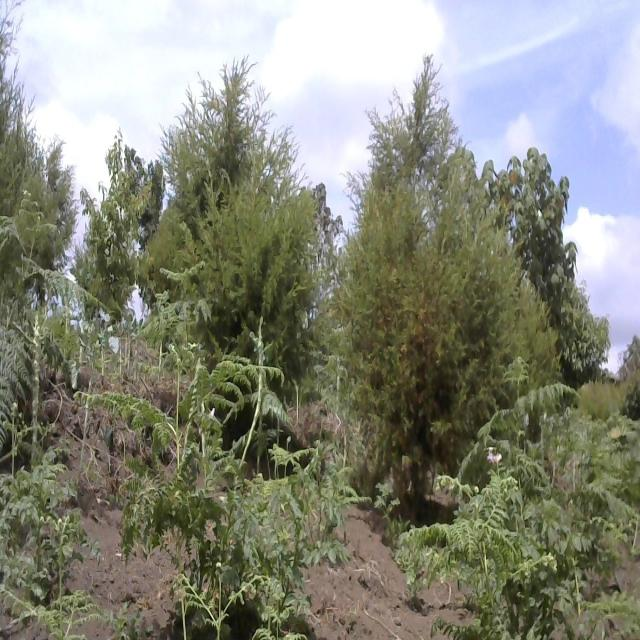Hass Avocado: (77, 120, 153, 308)
cedrus: (340, 58, 558, 498), (185, 131, 316, 377), (162, 60, 299, 236), (0, 4, 76, 299)
other: (484, 140, 575, 292)
